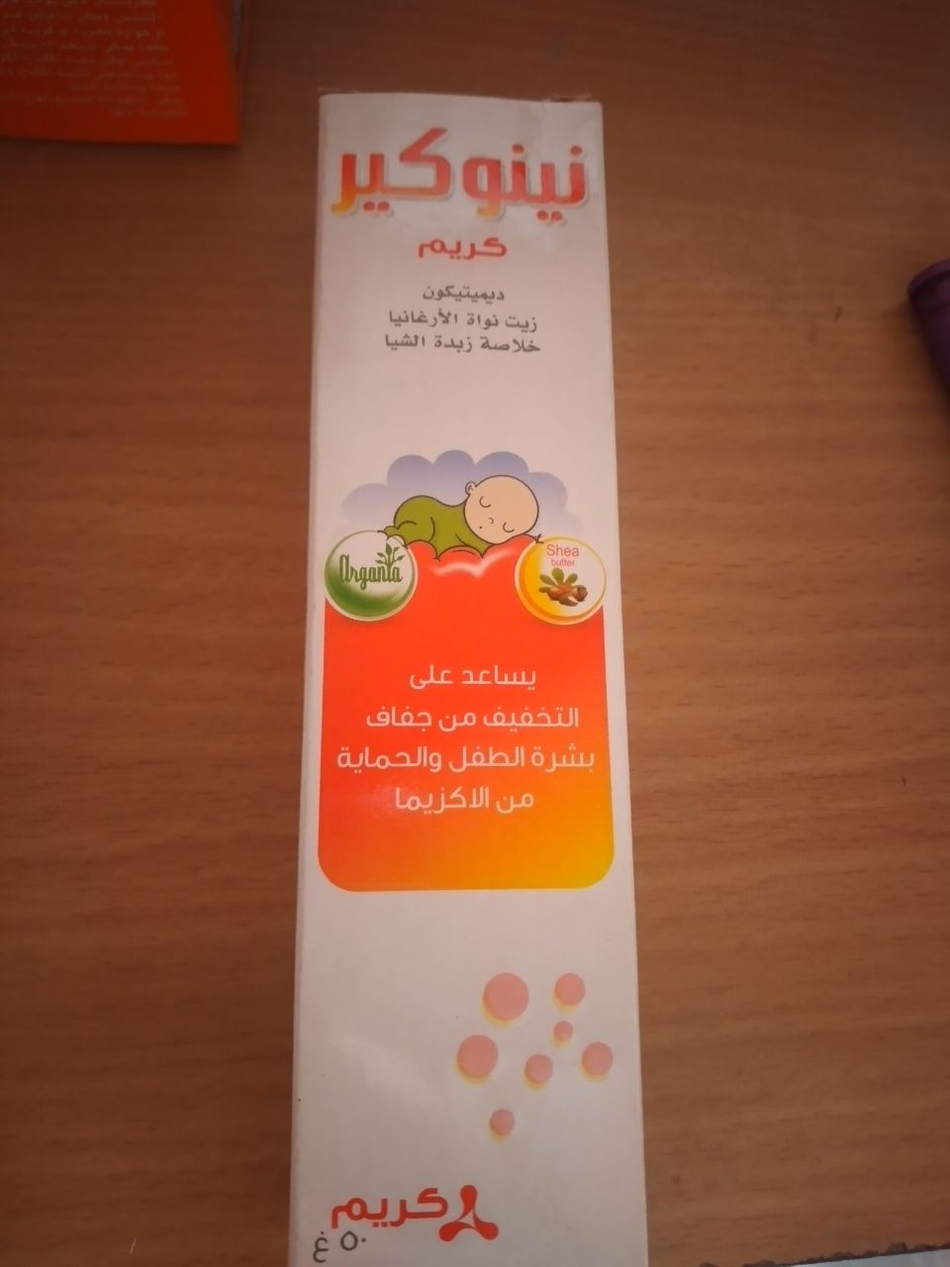Medicine: (284, 73, 650, 1267)
